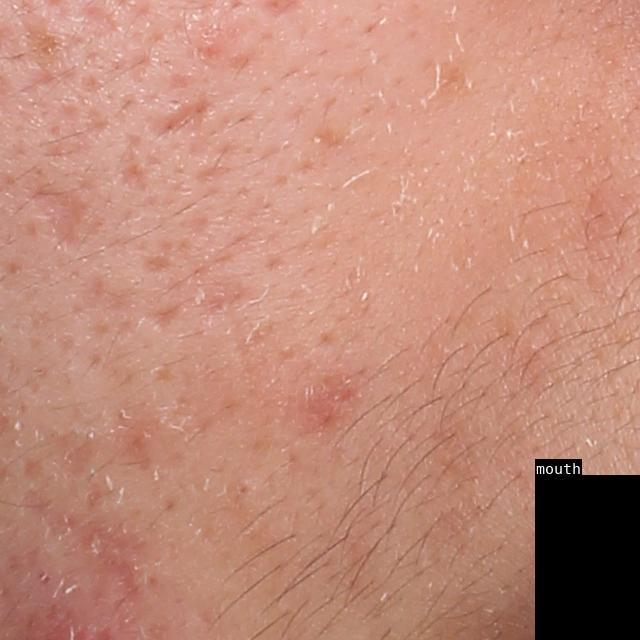atrophic_scar: (29, 188, 92, 254), (40, 426, 98, 482), (155, 91, 208, 139), (118, 157, 158, 194), (139, 306, 183, 332), (141, 251, 172, 279)
comedo: (235, 476, 254, 501)
